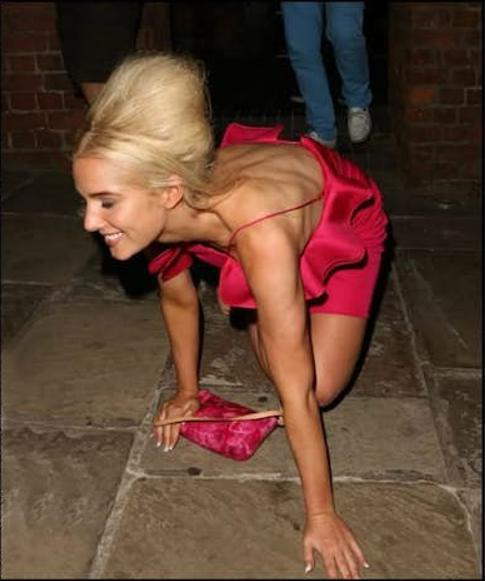Drunk: (72, 158, 162, 258)
